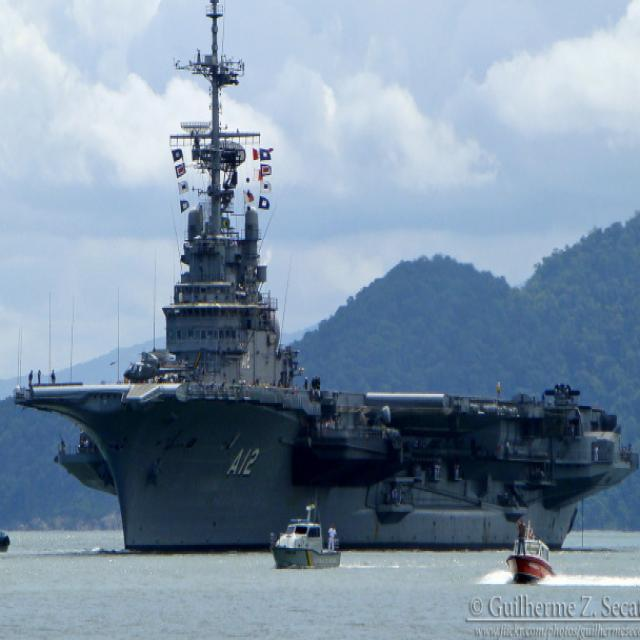Portanaves: (9, 1, 640, 564)
